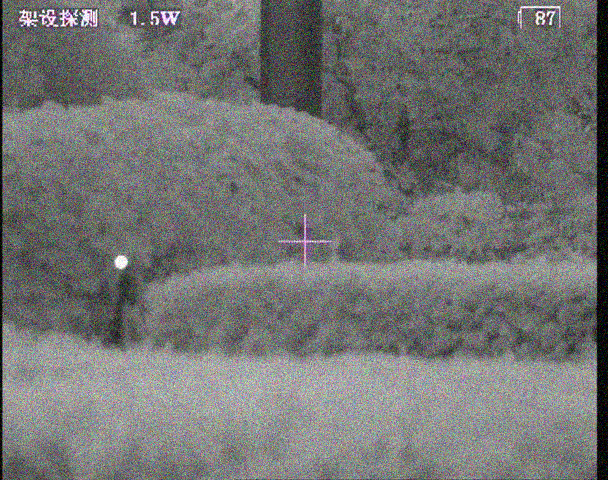my: (113, 255, 128, 270)
